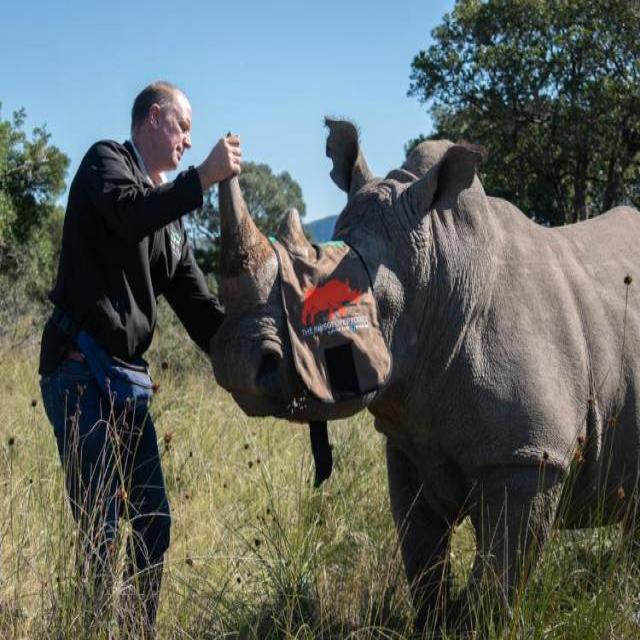Rinoceros: (213, 109, 640, 640)
